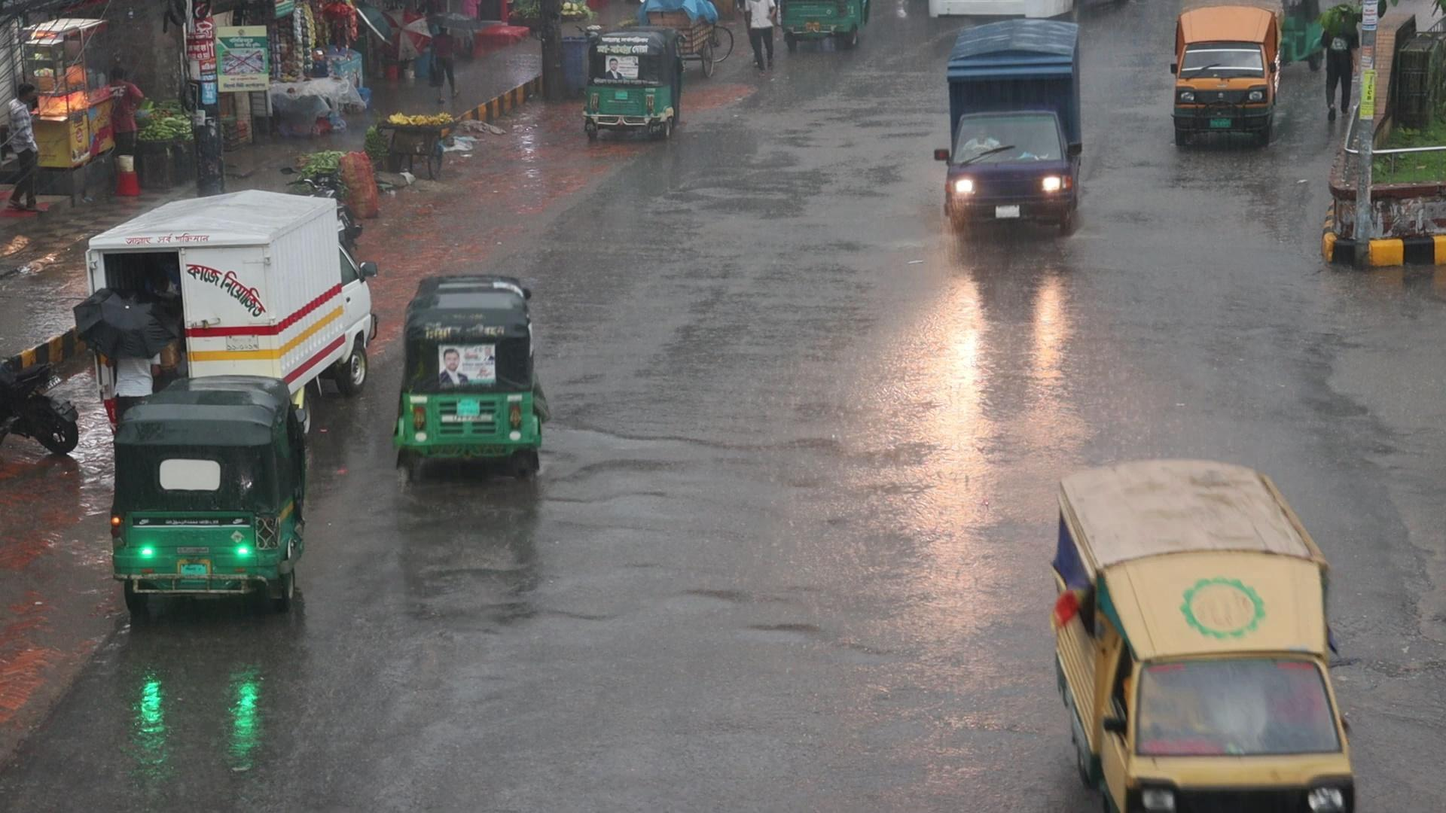Truck: (1047, 454, 1361, 813), (940, 13, 1086, 233), (1170, 6, 1284, 144)
